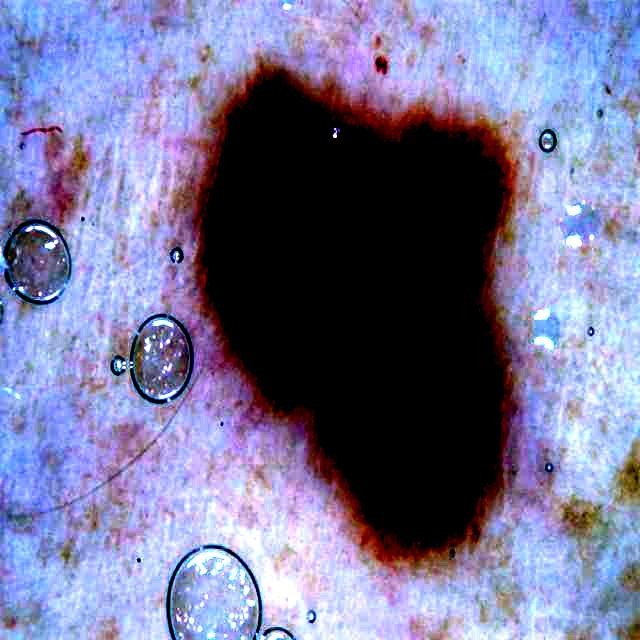MEL: (207, 77, 505, 538)
